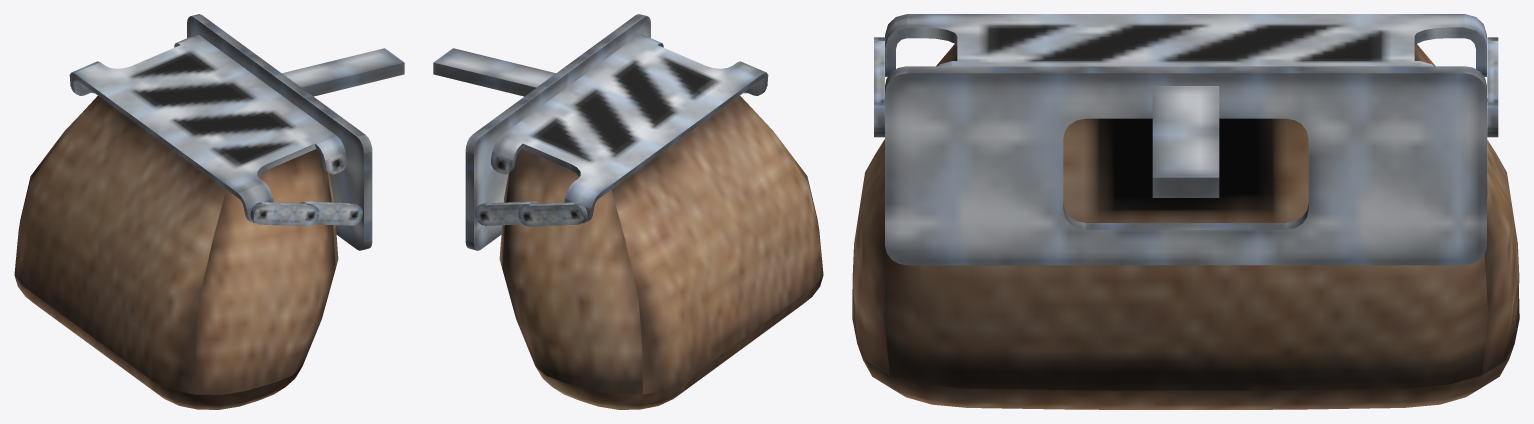
File: ammomaker_BrassCatcherAdvanced.fbx
3 views of the same model, side by side, from view 1: azimuth 30°, elevation 25°; view 2: azimuth 150°, elevation 25°; view 3: azimuth 270°, elevation 25° (orthographic). The views are drawn at different scales.
Visible parts, largest first — view 1: ammomaker_BrassCatcherAdvanced; view 2: ammomaker_BrassCatcherAdvanced; view 3: ammomaker_BrassCatcherAdvanced.
Boxes of the visible parts, bbox=[...] form: ammomaker_BrassCatcherAdvanced: bbox=[14, 14, 404, 409]; ammomaker_BrassCatcherAdvanced: bbox=[433, 14, 823, 409]; ammomaker_BrassCatcherAdvanced: bbox=[852, 14, 1519, 409].
Bounding box in the file's own units: 5.4 × 3.95 × 5.98.
